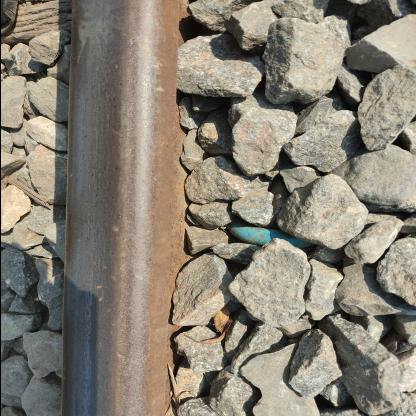Non Defective: (23, 10, 296, 415)
